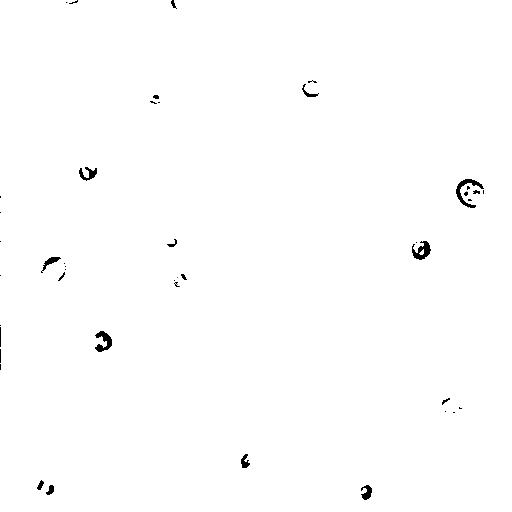micro-algae: (363, 56, 419, 114), (161, 263, 203, 300), (27, 469, 63, 504), (36, 253, 68, 286), (455, 179, 487, 210), (0, 331, 21, 369), (158, 228, 181, 251), (90, 330, 113, 353), (78, 159, 99, 182), (410, 240, 433, 261), (441, 393, 463, 414), (302, 79, 322, 98), (236, 451, 254, 471), (358, 481, 374, 501), (169, 0, 191, 11), (59, 1, 83, 7)
